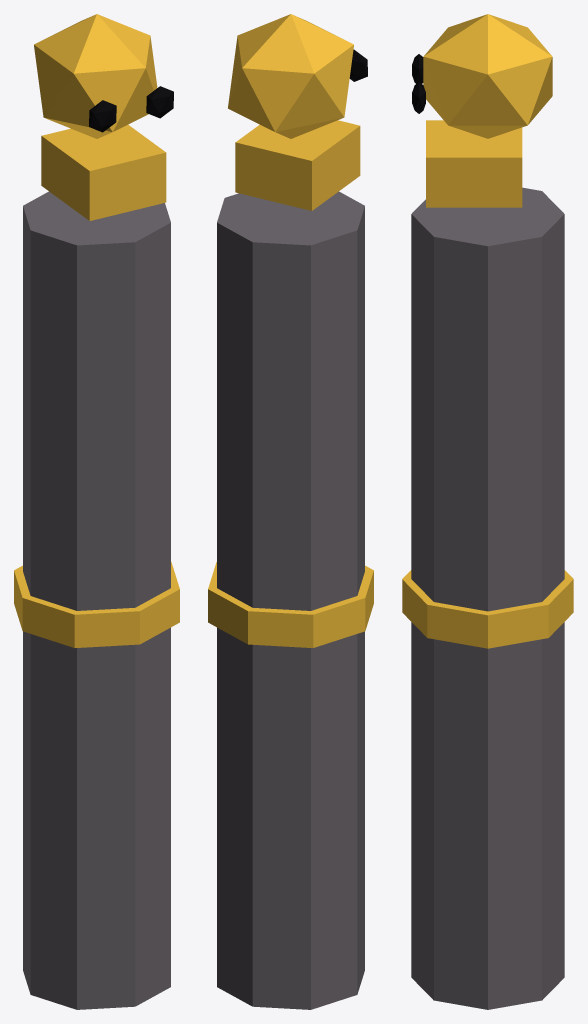
The model's file is Prop_OR_SkullTotem_13.glb.
The picture shows the model from 3 angles, left to right: view 1: azimuth 30°, elevation 25°; view 2: azimuth 150°, elevation 25°; view 3: azimuth 270°, elevation 25°; orthographic projection.
Visible parts, largest first — view 1: Prop_OR_SkullTotem_13; view 2: Prop_OR_SkullTotem_13; view 3: Prop_OR_SkullTotem_13.
Boxes of the visible parts, left/top/right/bottom form: Prop_OR_SkullTotem_13: left=14, top=14, right=179, bottom=1009; Prop_OR_SkullTotem_13: left=208, top=14, right=373, bottom=1009; Prop_OR_SkullTotem_13: left=402, top=14, right=573, bottom=1009.
Size of the model in its own units: 0.56 by 3.47 by 0.56.
